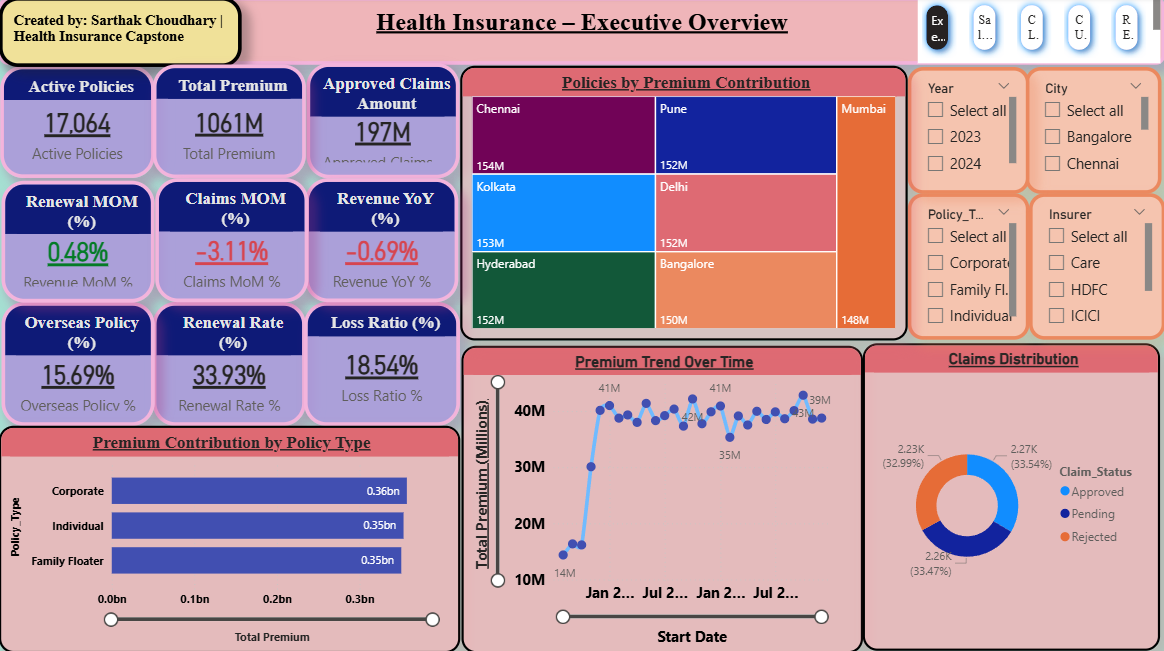

The dashboard page shown, as its layout file describes it:
{"tool":"powerbi","page":{"name":"Executive Overview","canvas":[1280,720],"ordinal":0},"visuals":[{"type":"textbox","box":[0,0,1280.3,74.1],"z":0},{"type":"card","title":"Approved Claims Amount","fields":{"Values":["All Measures.Approved Claims Amount"]},"box":[337.8,72.5,168.2,126.1],"z":1000},{"type":"card","title":"Active Policies","fields":{"Values":["All Measures.Active Policies"]},"box":[1.4,75.4,169.6,123.2],"z":2000},{"type":"card","title":"Renewal Rate (%) ","fields":{"Values":["All Measures.Renewal Rate %"]},"box":[168.2,334.9,168.2,136.3],"z":3000},{"type":"card","title":"Loss Ratio (%)","fields":{"Values":["All Measures.Loss Ratio"]},"box":[334.9,334.9,171.1,136.3],"z":4000},{"type":"card","title":"Overseas Policy (%)","fields":{"Values":["All Measures.Overseas Policy %"]},"box":[2.9,334.9,168.2,136.3],"z":5000},{"type":"clusteredBarChart","title":"Premium Contribution by Policy Type","fields":{"Category":["fact_policies.Policy_Type"],"Y":["All Measures.Total Premium"]},"box":[0,471.2,506,249.4],"z":6000},{"type":"lineChart","title":"Premium Trend Over Time","fields":{"Y":["All Measures.Total Premium"],"Category":["Date Table.Date.Variation.Date Hierarchy.Year","Date Table.Date.Variation.Date Hierarchy.Quarter","Date Table.Date.Variation.Date Hierarchy.Month","Date Table.Date.Variation.Date Hierarchy.Day"]},"box":[507.5,382.8,440.8,337.8],"z":7000},{"type":"donutChart","title":"Claims Distribution","fields":{"Category":["fact_claims.Claim_Status"],"Y":["CountNonNull(fact_claims.Claim_ID)"]},"box":[948.2,380.1,326.6,337.6],"z":8000},{"type":"slicer","fields":{"Values":["dim_customer.City"]},"box":[1126.6,76.8,149.3,139.2],"z":9000},{"type":"slicer","fields":{"Values":["fact_policies.Policy_Type"]},"box":[997.6,216,133.4,160.9],"z":10000},{"type":"slicer","fields":{"Values":["dim_insurer.Insurer"]},"box":[1131,216,149.3,160.9],"z":11000},{"type":"slicer","fields":{"Values":["Date Table.Year"]},"box":[997.6,76.8,133.4,139.2],"z":12000},{"type":"textbox","box":[0,0,266.8,76.8],"z":13000},{"type":"treemap","title":"Policies by Premium Contribution","fields":{"Group":["dim_customer.City"],"Values":["All Measures.Total Premium"]},"box":[506.7,75.8,491.5,301.9],"z":14000},{"type":"card","title":"Total Premium","fields":{"Values":["All Measures.Total Premium"]},"box":[168.2,73.9,168.2,124.7],"z":15000},{"type":"pageNavigator","box":[1009.2,0,266.8,72.5],"z":16000},{"type":"card","title":"Renewal MOM (%)","fields":{"Values":["All Measures.Revenue MoM %"]},"box":[2.9,201.5,168.2,133.4],"z":17000},{"type":"card","title":"Revenue YoY (%)","fields":{"Values":["All Measures.Revenue YoY %"]},"box":[336.4,198.6,168.2,136.3],"z":18000},{"type":"card","title":"Claims MOM (%)","fields":{"Values":["All Measures.Claims MoM %"]},"box":[171.1,198.6,168.2,136.3],"z":19000}]}

Visuals, with their boxes in screenshot pixels (x1, y1, x2, y2), scaled from the page's 1280x720 canvas onto the 1164x651 screenshot:
textbox: box=[0, 0, 1163, 67]
"Approved Claims Amount" card: box=[307, 66, 460, 180]
"Active Policies" card: box=[1, 68, 156, 180]
"Renewal Rate (%) " card: box=[153, 303, 306, 426]
"Loss Ratio (%)" card: box=[305, 303, 460, 426]
"Overseas Policy (%)" card: box=[3, 303, 156, 426]
"Premium Contribution by Policy Type" clusteredBarChart: box=[0, 426, 460, 650]
"Premium Trend Over Time" lineChart: box=[462, 346, 862, 650]
"Claims Distribution" donutChart: box=[862, 344, 1159, 649]
slicer - dim_customer.City: box=[1025, 69, 1160, 195]
slicer - fact_policies.Policy_Type: box=[907, 195, 1029, 341]
slicer - dim_insurer.Insurer: box=[1029, 195, 1163, 341]
slicer - Date Table.Year: box=[907, 69, 1029, 195]
textbox: box=[0, 0, 243, 69]
"Policies by Premium Contribution" treemap: box=[461, 69, 908, 342]
"Total Premium" card: box=[153, 67, 306, 180]
pageNavigator: box=[918, 0, 1160, 66]
"Renewal MOM (%)" card: box=[3, 182, 156, 303]
"Revenue YoY (%)" card: box=[306, 180, 459, 303]
"Claims MOM (%)" card: box=[156, 180, 309, 303]
